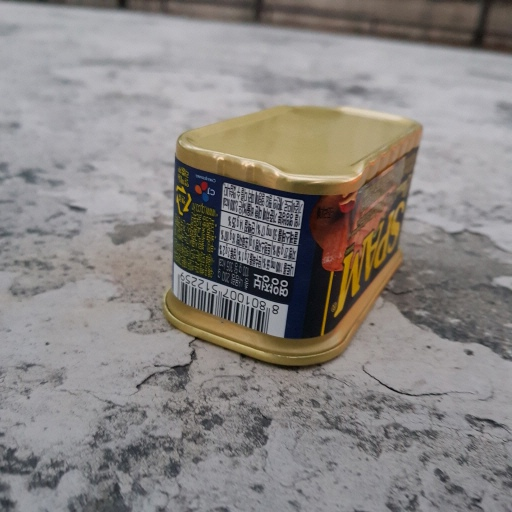Metal_2: (157, 101, 425, 368)
